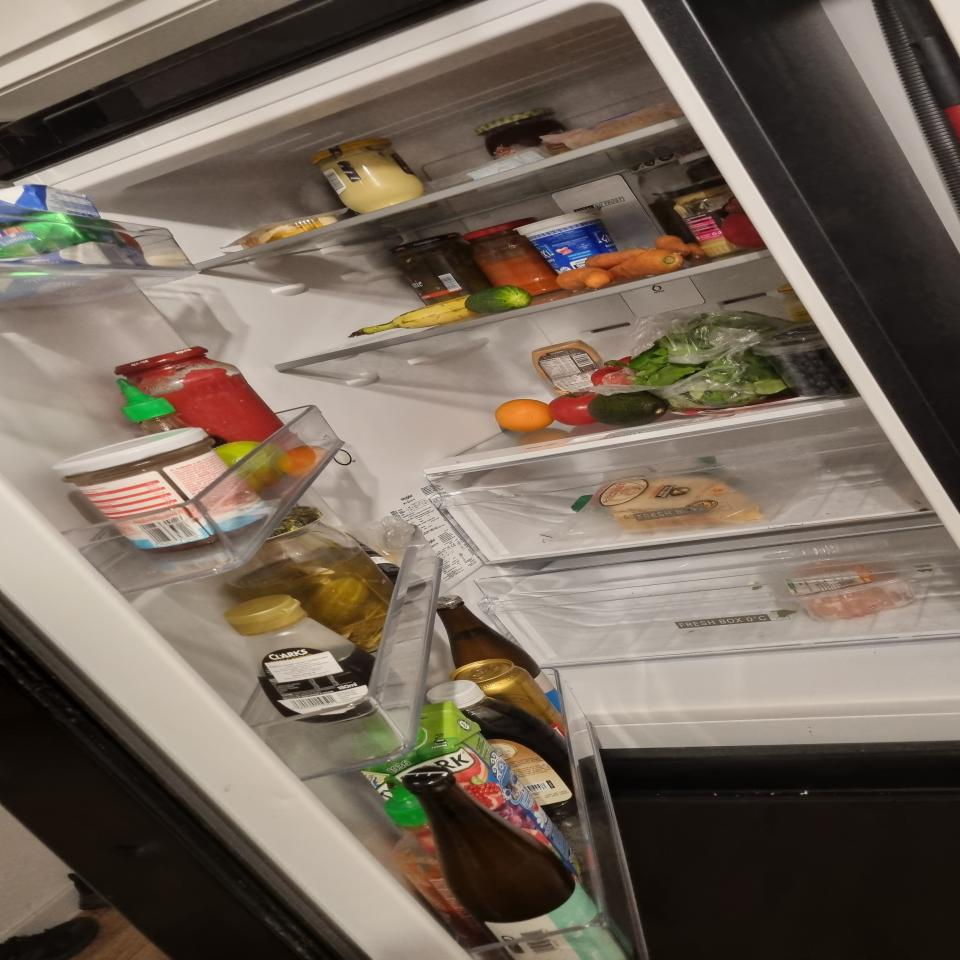Carne pollo: (781, 560, 914, 622)
Lechuga/Endivia: (622, 320, 800, 406)
Mantequilla: (0, 185, 153, 302)
Pepino: (589, 392, 671, 426), (461, 284, 532, 314)
Plátano: (348, 296, 471, 334)
Queso: (612, 477, 764, 532)
Tomate: (552, 392, 601, 425)
Yogur: (515, 205, 618, 273)
Zanahoria: (555, 236, 706, 290)
